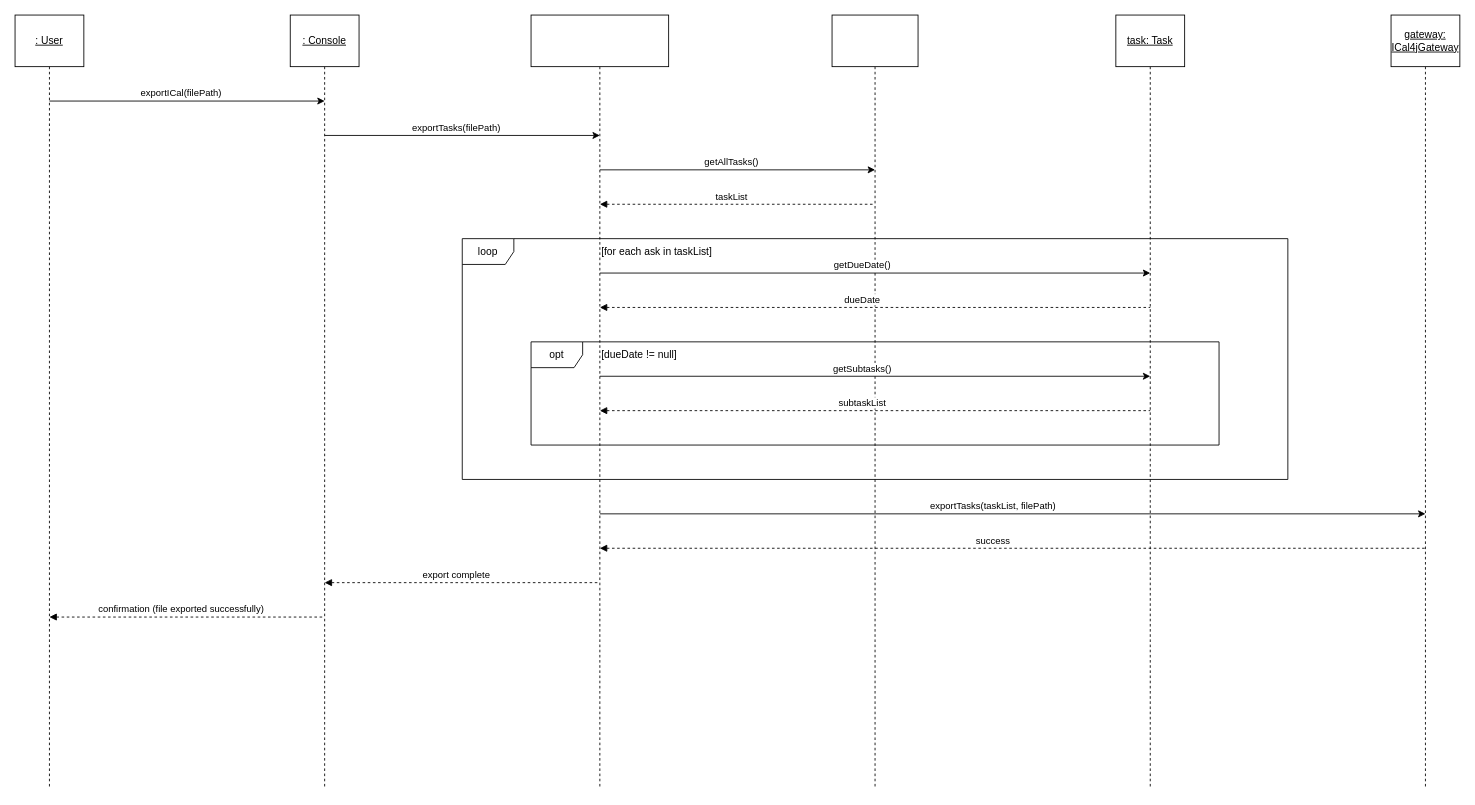
The diagram is 1475 pixels wide and 805 high, and some of its shapes have lost their labels. Each missing label, with the centre of its shape:
": CalendarExportService" goes at (599,40).
": TaskDB" goes at (874,40).
